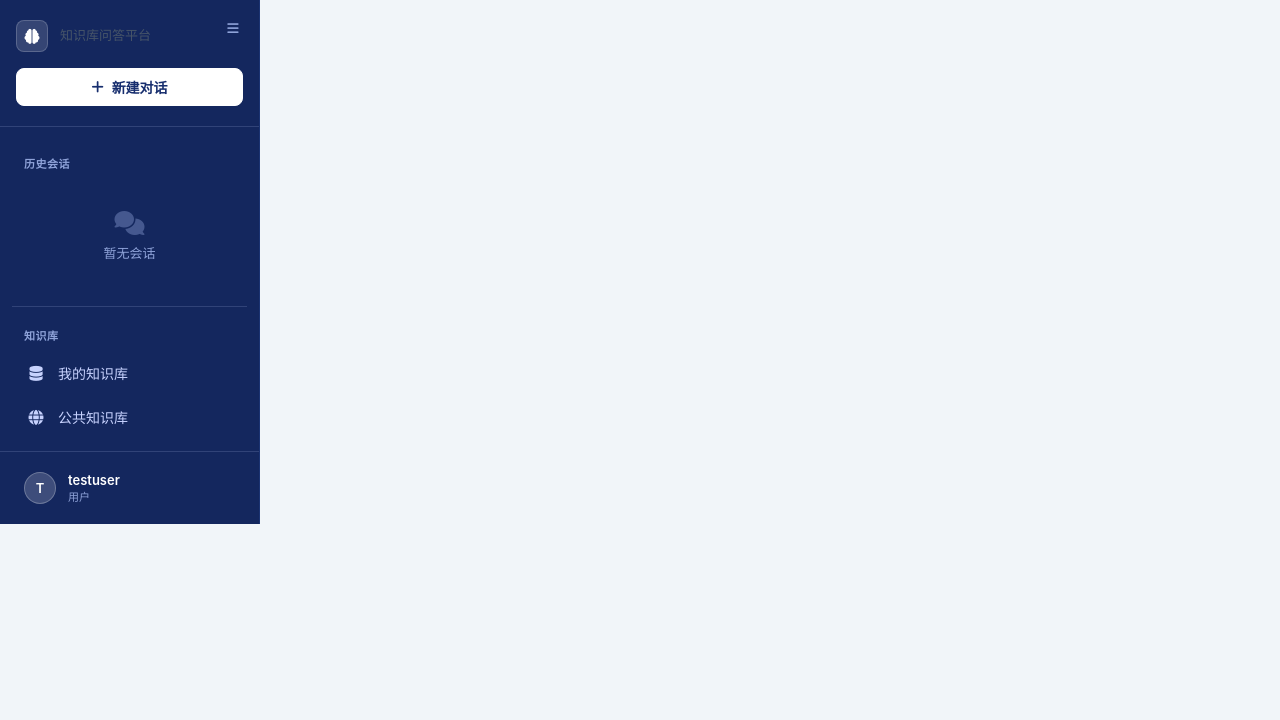
it: Sidebar 会话列表 › 点击头像打开用户菜单，点击修改密码项打开弹窗
Click the text with class "user-avatar". click: [40, 488]
box: [24, 472, 56, 504]
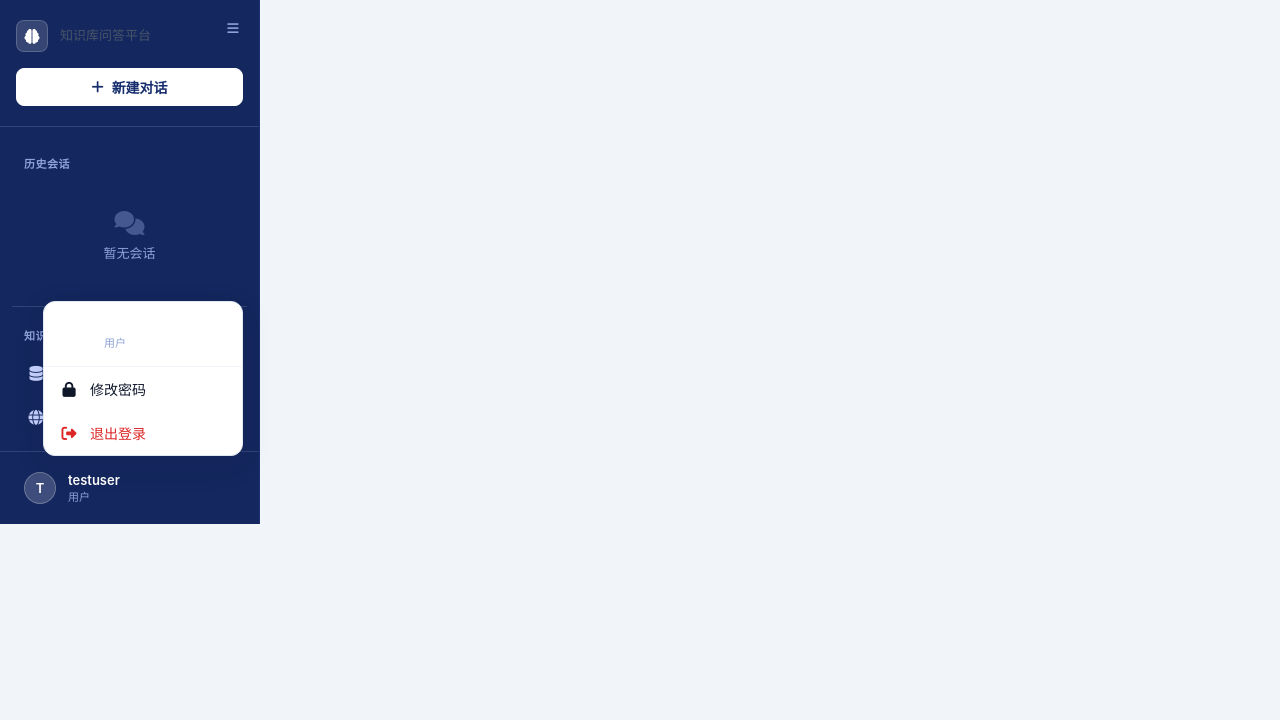
Now the element with class "user-menu-card" shows "修改密码"
Now the element with class "user-menu-card" shows "退出登录", box [44, 411, 242, 455]
//  点击修改密码项
Click the button with class "user-menu-item" showing "修改密码". click: [143, 389]
box: [44, 367, 242, 411]
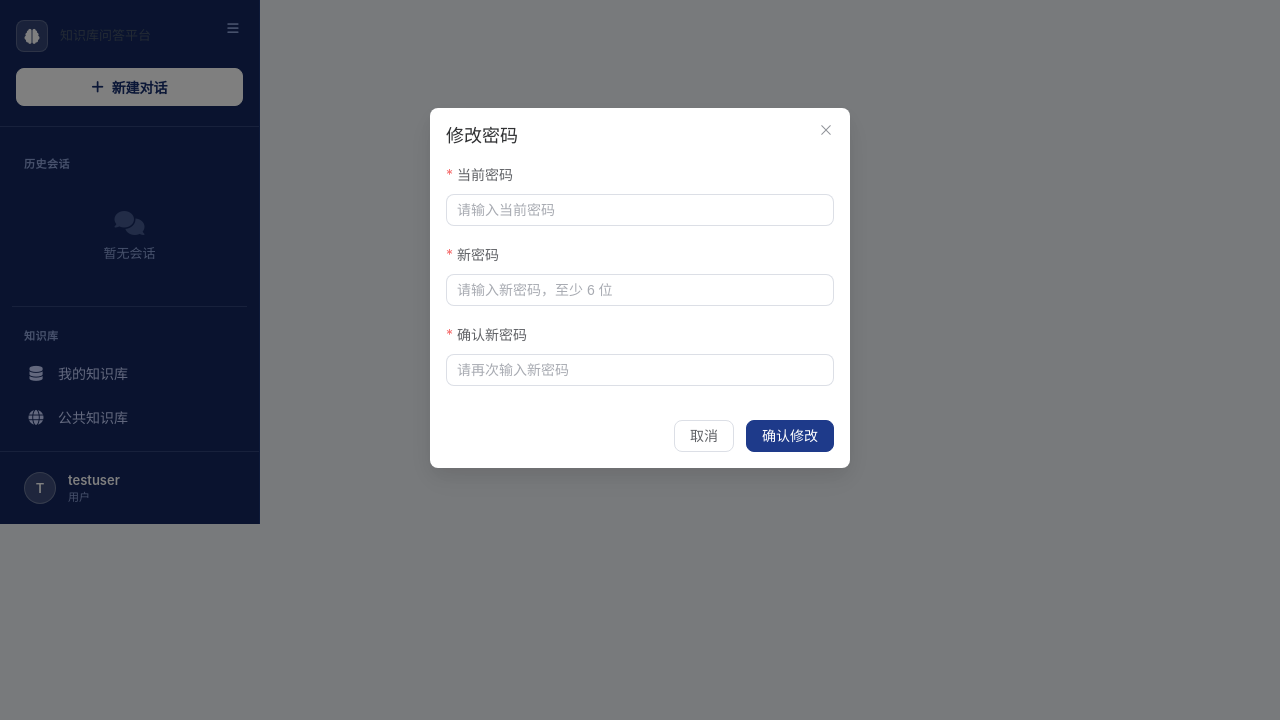
Now the text "当前密码" is shown, box [446, 164, 525, 186]
Now the text "新密码" is shown, box [446, 244, 511, 266]
Now the text "确认新密码" is shown, box [446, 324, 539, 346]
